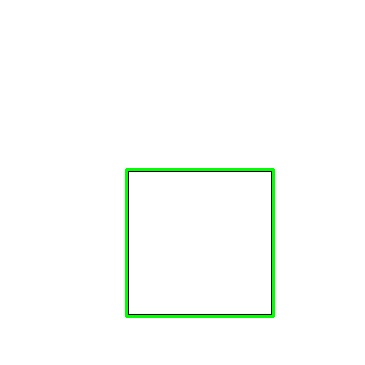line_segment: (125, 168, 275, 318)
